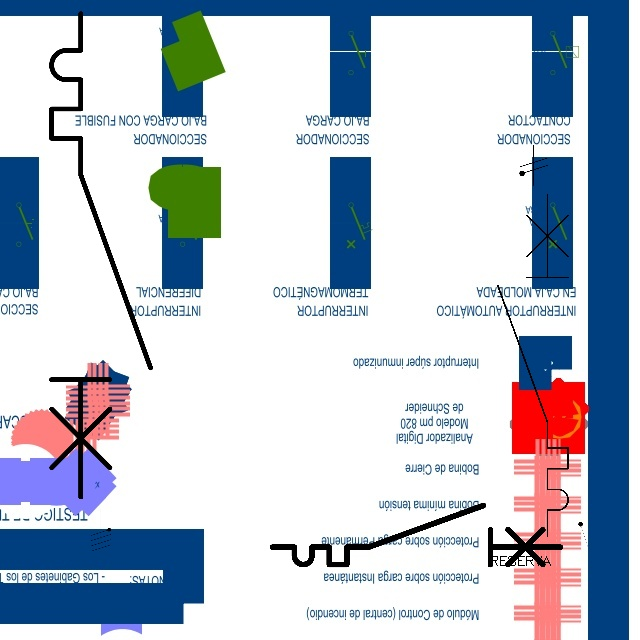interruptor_termomagnetico: (39, 1, 163, 510), (489, 185, 577, 544), (265, 498, 567, 572)
